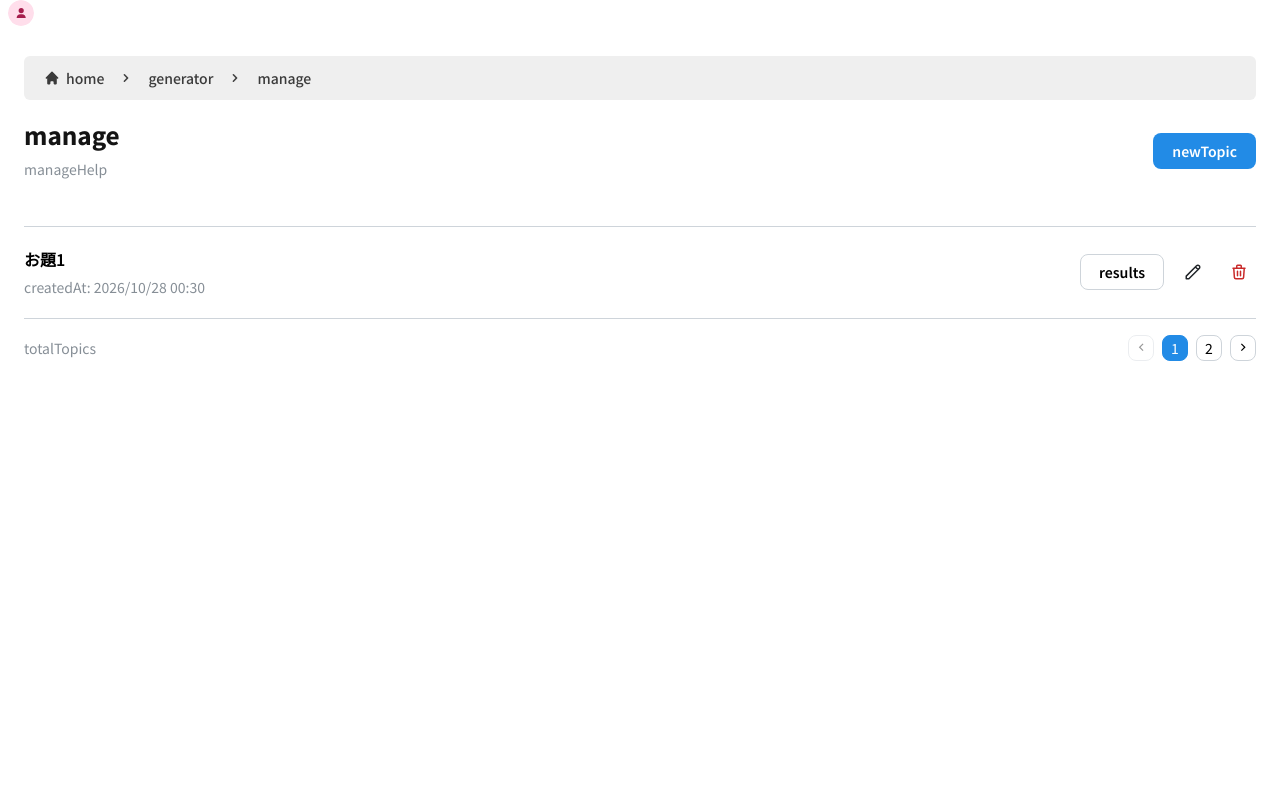
it: 作成したお題・集計の専用ページ › 最終ページの最後のお題を削除すると前のページへ戻る
This screenshot has width=1280, height=800.
Expected: the heading "お題1" is shown, [24,247,65,271]
Click the button named "pagination.next" at (1243, 348), box [1230,335,1256,361]
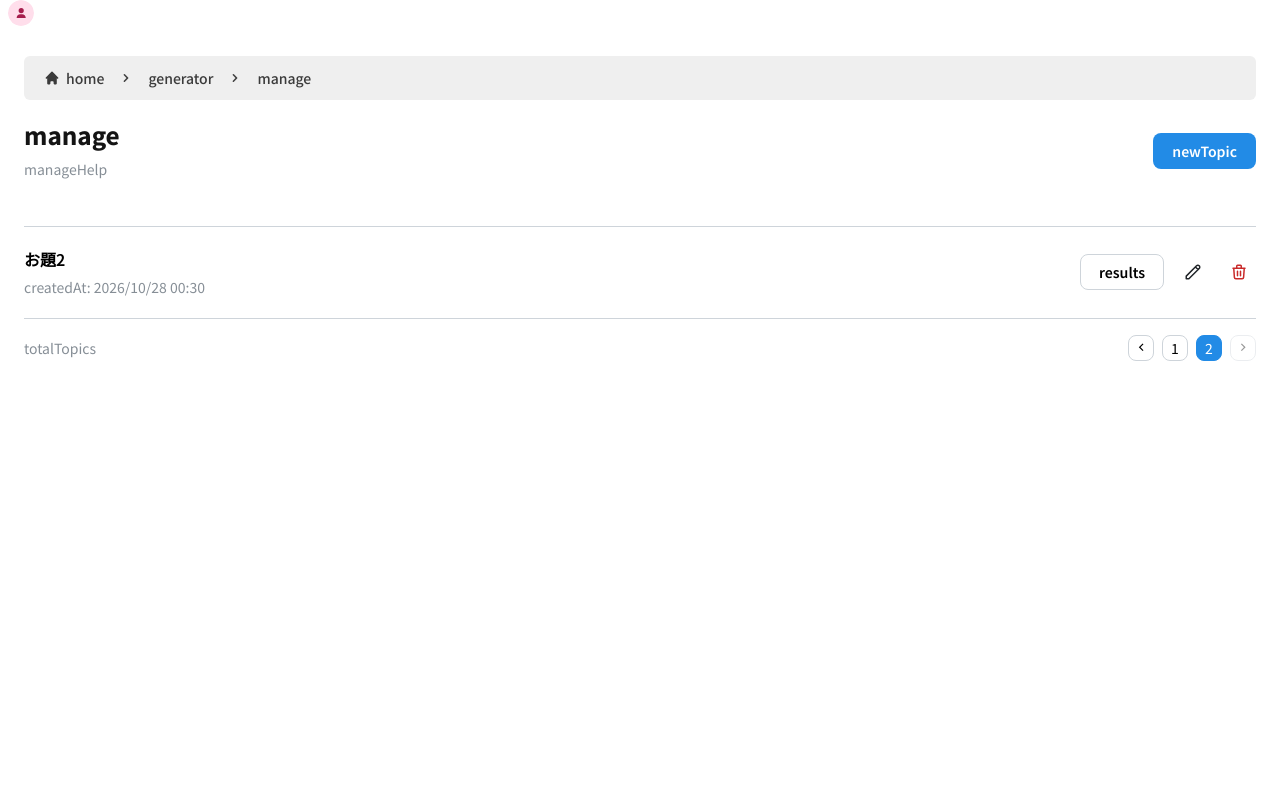
Result: the heading "お題2" is shown at [24,247,65,271]
Click the button named "delete" at (1239, 272), box [1222,255,1256,289]
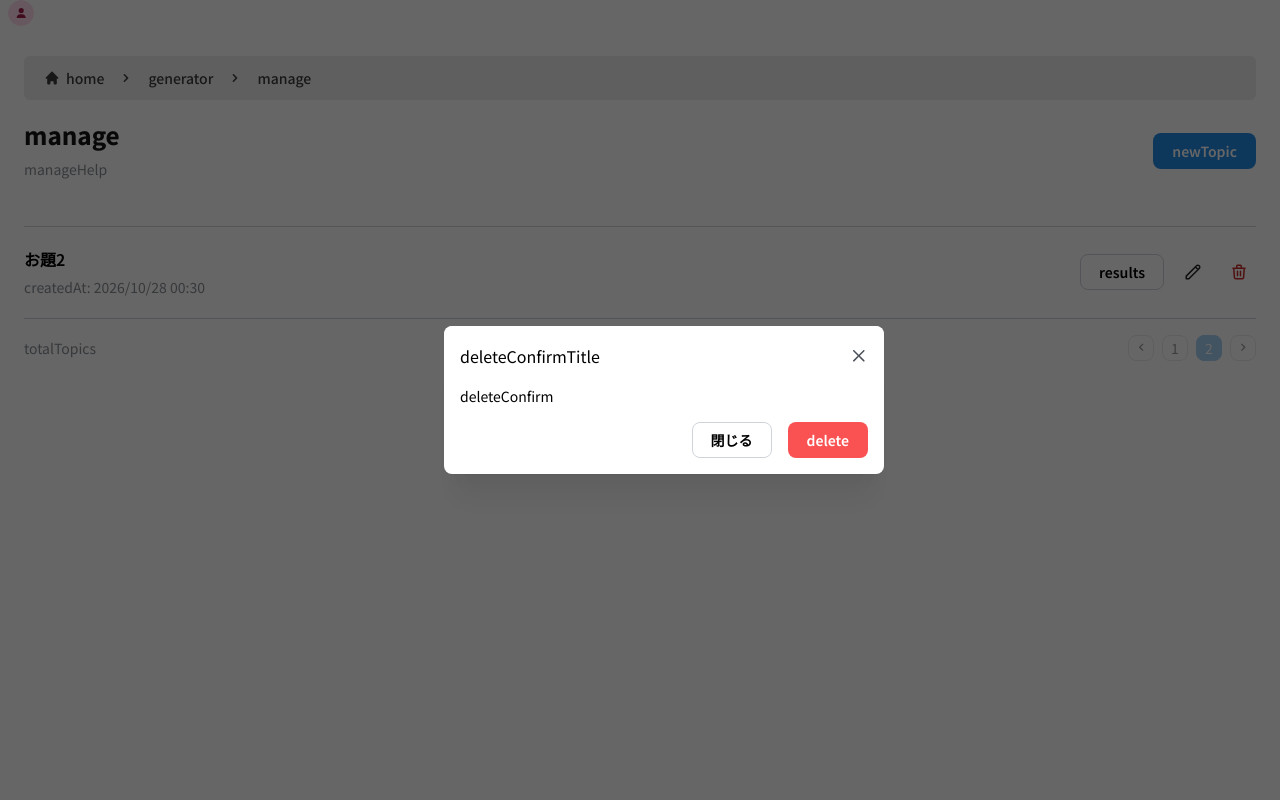
Click the button "delete" at (828, 440), box [788,422,868,458]
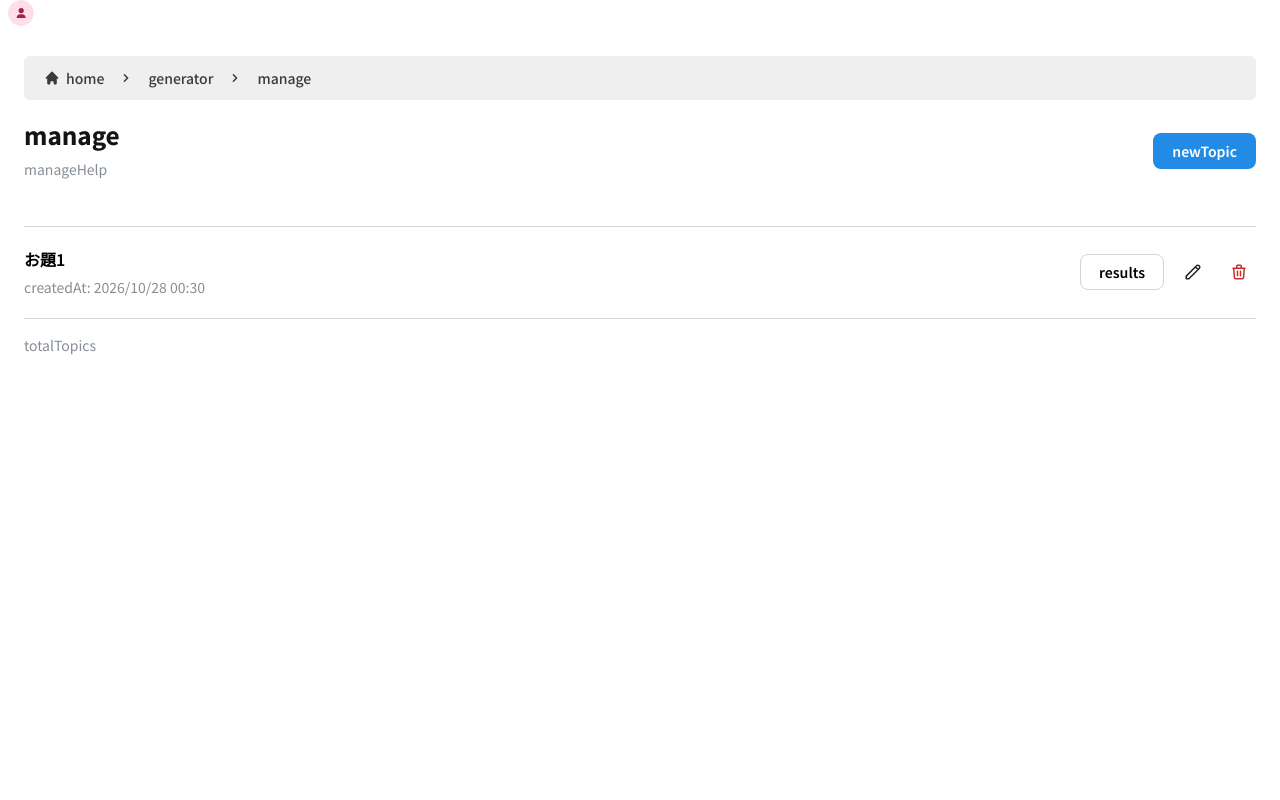
Result: the heading "お題1" is shown at [24,247,65,271]
